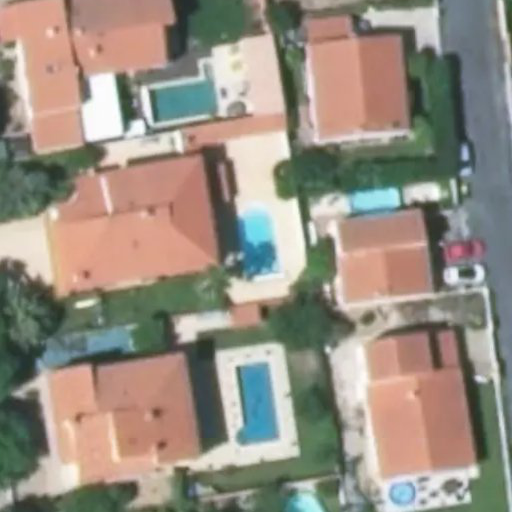pool: (226, 360, 293, 450), (228, 203, 286, 285), (142, 71, 226, 126), (33, 330, 146, 370), (351, 183, 403, 210), (276, 488, 325, 512), (389, 480, 419, 506)
